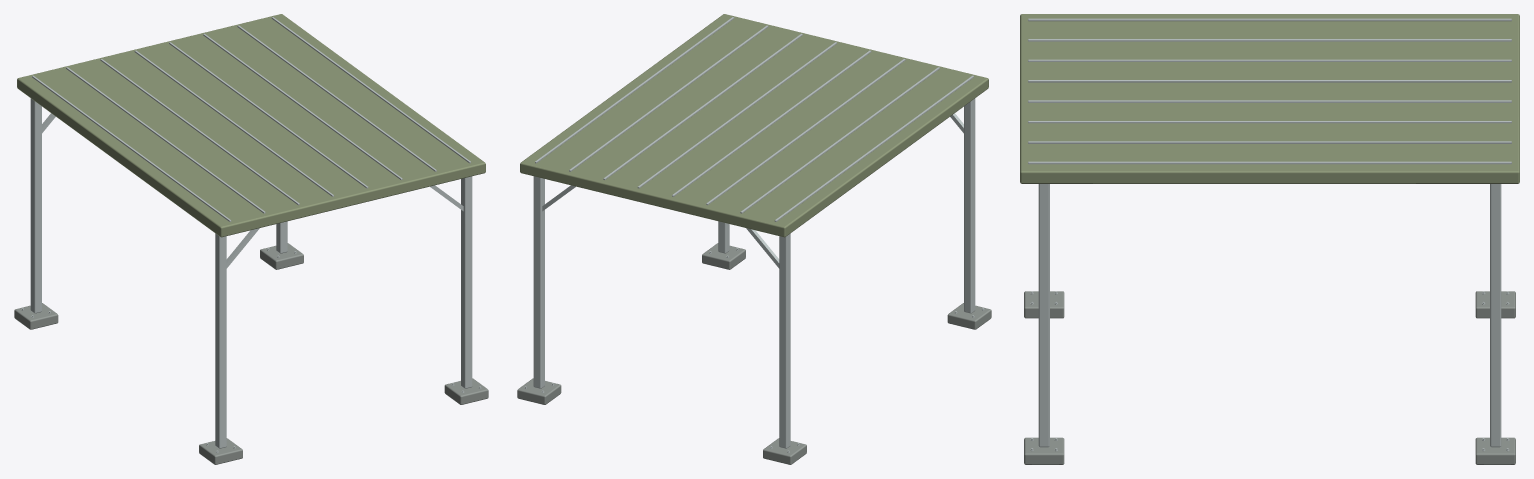
The model's file is mountain-border-checkpoint-mountain-border-checkpoint--1c976e45__30290.glb.
3 renders of one model, left to right at view 1: azimuth 30°, elevation 25°; view 2: azimuth 150°, elevation 25°; view 3: azimuth 270°, elevation 25°, orthographic. The views are drawn at different scales.
Visible parts, largest first — view 1: mountain-border-checkpoint-vehicle-inspection-canopy; view 2: mountain-border-checkpoint-vehicle-inspection-canopy; view 3: mountain-border-checkpoint-vehicle-inspection-canopy.
Part boxes in pixels (x1=…): mountain-border-checkpoint-vehicle-inspection-canopy: x1=14, y1=14, x2=488, y2=464; mountain-border-checkpoint-vehicle-inspection-canopy: x1=517, y1=14, x2=991, y2=464; mountain-border-checkpoint-vehicle-inspection-canopy: x1=1020, y1=14, x2=1519, y2=464.
Bounding box in the file's own units: 4.8 × 4.02 × 6.2.
